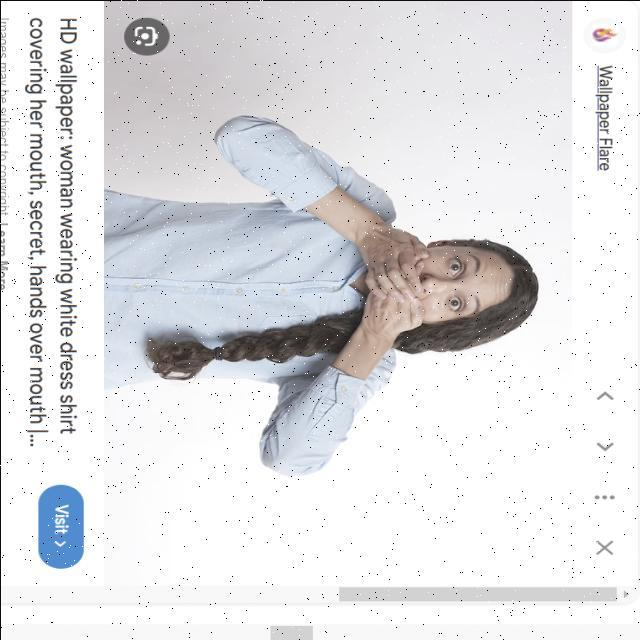face_with_hand: (359, 244, 519, 322)
